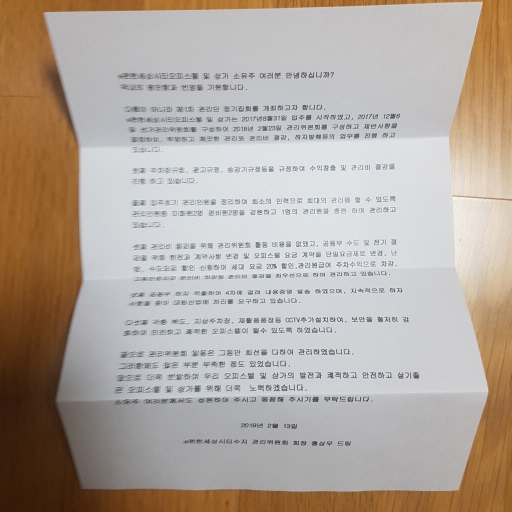Paper_3: (35, 4, 503, 506)
